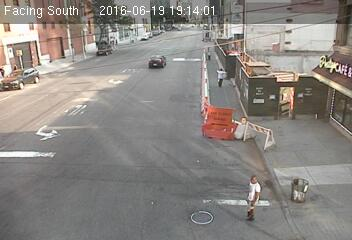neg: (32, 55, 55, 85), (104, 49, 122, 72), (152, 60, 167, 80)
pos: (237, 172, 273, 220), (209, 63, 226, 86), (205, 45, 216, 60)
